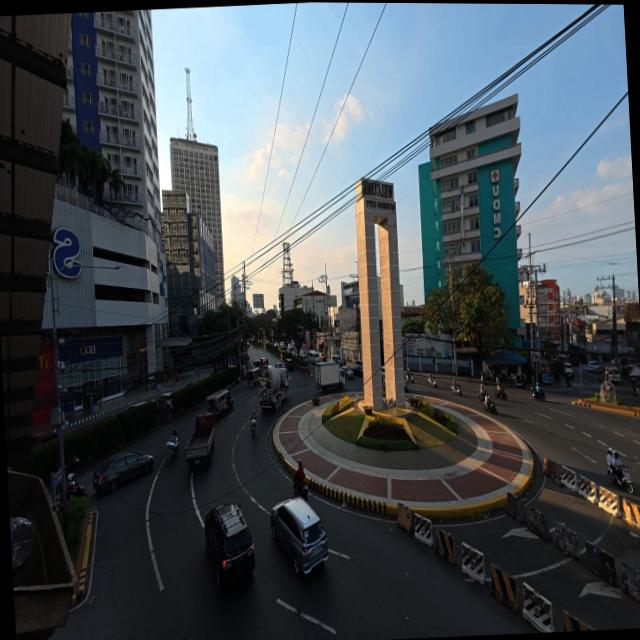Jeepneys: (206, 390, 232, 420), (246, 368, 259, 388)
car: (270, 497, 327, 574), (204, 504, 254, 589), (92, 452, 153, 493), (31, 431, 57, 446), (156, 392, 172, 410), (275, 361, 288, 379), (125, 401, 146, 411), (341, 366, 354, 380), (351, 361, 362, 377), (563, 361, 573, 375), (330, 355, 342, 366), (284, 359, 292, 371), (259, 358, 267, 365), (320, 353, 326, 361), (403, 381, 407, 392), (279, 342, 284, 349), (380, 366, 384, 374), (273, 342, 278, 347)
motorcycle: (607, 466, 633, 495), (66, 474, 86, 497), (292, 479, 307, 501), (165, 435, 178, 458), (483, 399, 496, 414), (532, 388, 544, 401), (250, 417, 258, 436), (481, 372, 493, 384), (494, 389, 506, 400), (428, 375, 438, 388), (450, 384, 461, 395), (512, 379, 524, 389), (458, 367, 469, 377), (404, 372, 413, 383), (478, 393, 485, 402), (565, 376, 570, 387)
trucks: (184, 413, 214, 467), (258, 366, 288, 410), (314, 360, 344, 391)
vans: (605, 368, 619, 384), (308, 350, 319, 363)
